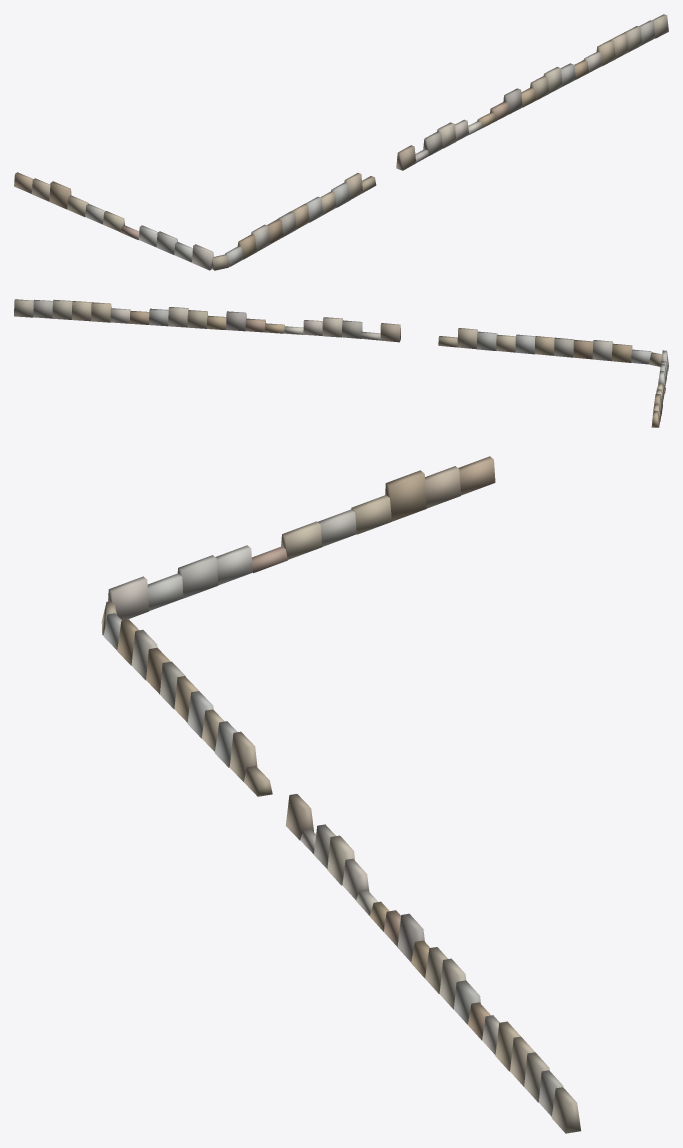
The model's file is farm_-1_18_collision.glb.
3 views of the same model, one above another, from view 1: azimuth 30°, elevation 25°; view 2: azimuth 150°, elevation 25°; view 3: azimuth 270°, elevation 25° (orthographic). The views are drawn at different scales.
Parts seen in each view (by area): view 1: geometry_0; view 2: geometry_0; view 3: geometry_0.
Boxes of the visible parts, x1,y1,x2,y2 form: geometry_0: (14, 14, 668, 270); geometry_0: (14, 299, 668, 427); geometry_0: (101, 456, 580, 1133).
Size of the model in its own units: 58.7 by 3.67 by 19.52.
